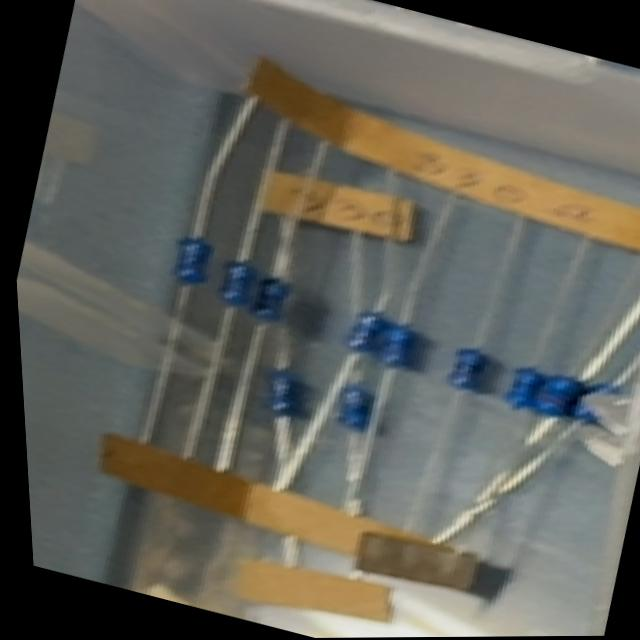Resistor: (570, 377, 632, 431), (260, 369, 319, 424), (331, 384, 388, 439), (529, 370, 585, 425), (374, 319, 426, 374), (167, 234, 219, 287), (441, 344, 491, 393), (248, 274, 294, 326), (347, 309, 392, 362), (501, 362, 546, 412), (217, 259, 255, 310)
